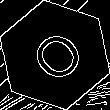O_SE: (21, 22, 89, 88)
